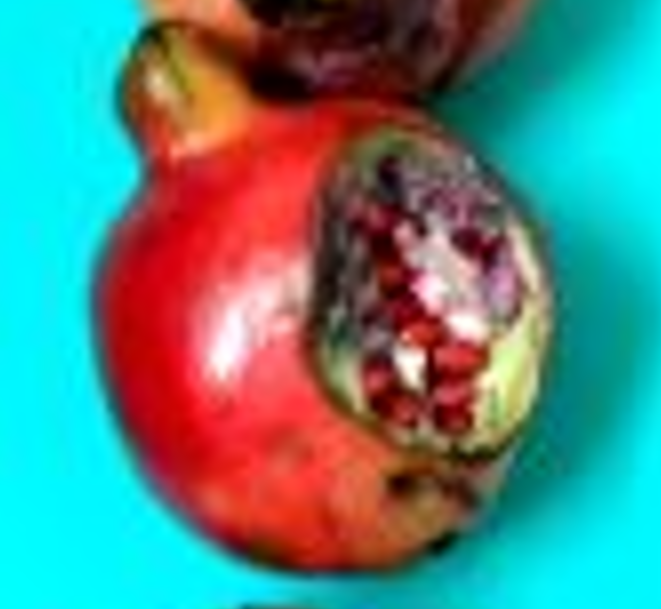pomegranate_C: (94, 20, 564, 575)
